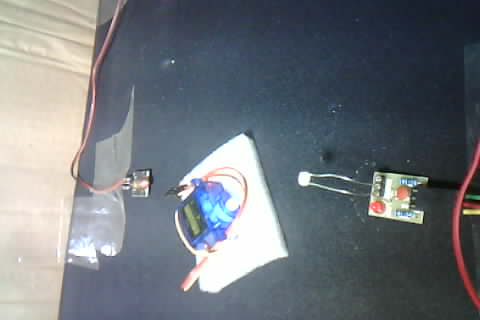motor: (162, 142, 276, 283)
